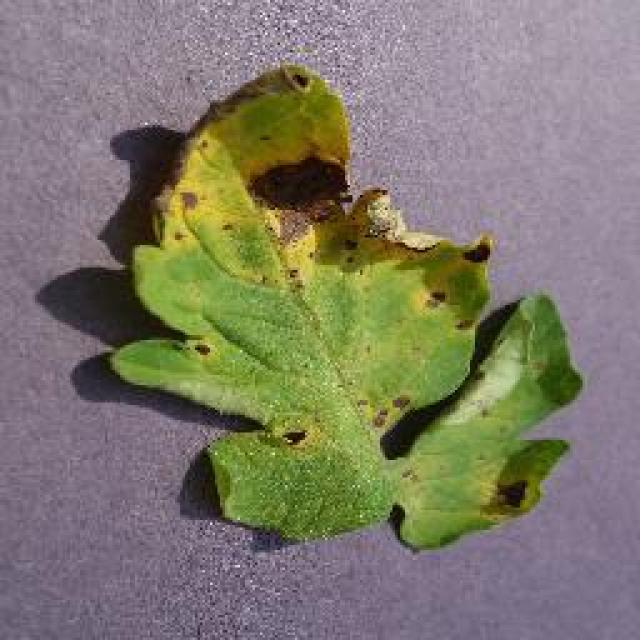Tomato target spot leaf: (105, 64, 583, 551)
